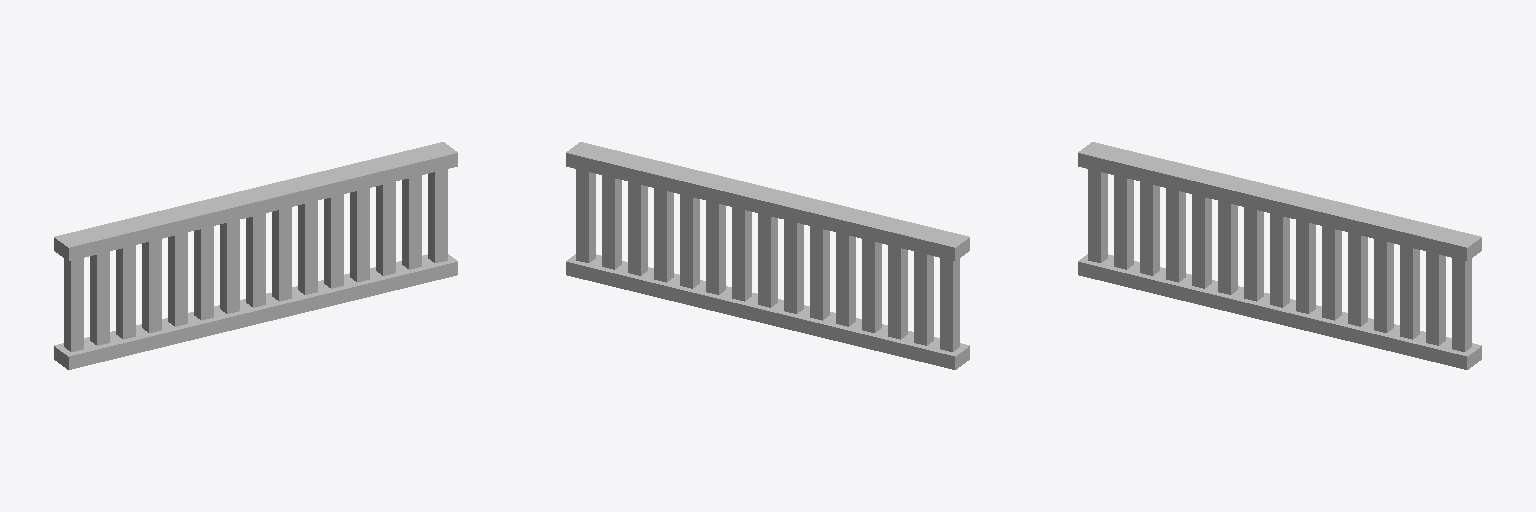
The model's file is Wall2.obj.
The picture shows the model from 3 angles: view 1: azimuth 30°, elevation 25°; view 2: azimuth 150°, elevation 25°; view 3: azimuth 330°, elevation 25°; orthographic projection.
Size of the model in its own units: 120 by 36 by 8.